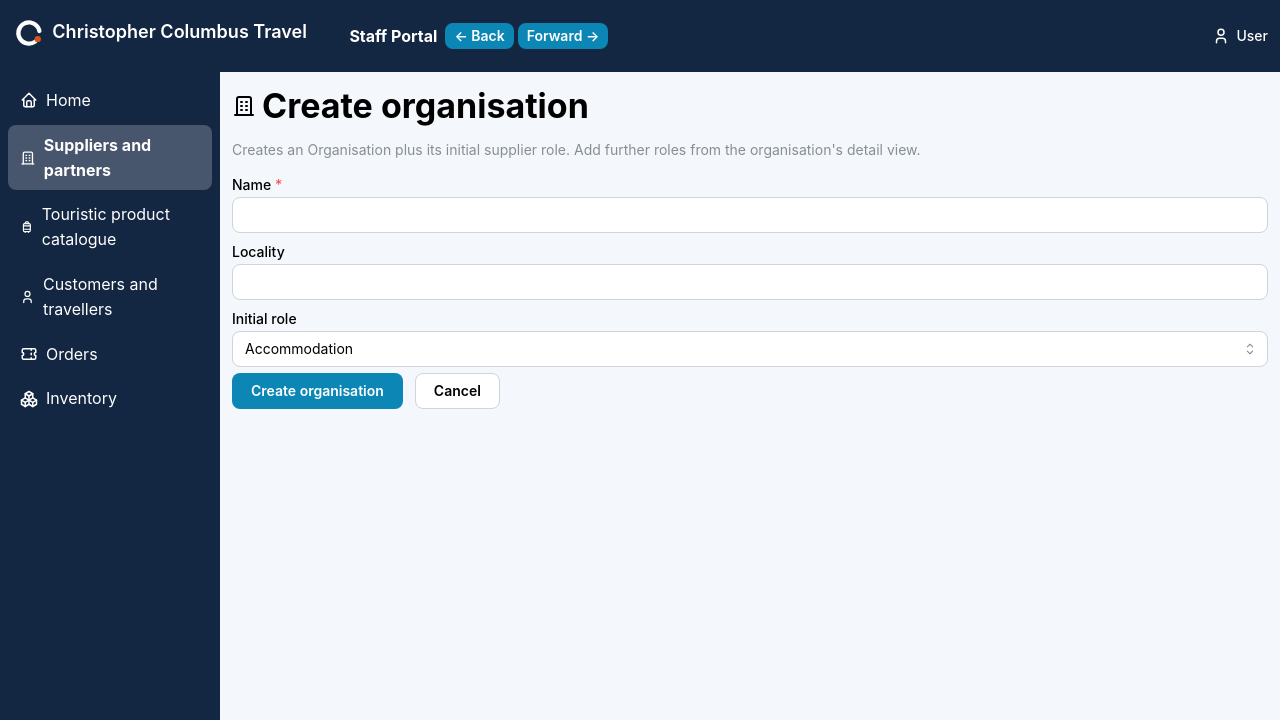
Scenario: OrganisationCreateRoute (VIEW-S-004 create flow, issue #30 phase 2) › shows a retry option when the organisation is created but the initial role fails
Type "Example Garden Hotel" into the field labelled "Name *".
click(750, 215); type("Example Garden Hotel")  # box top-left (232, 197), bottom-right (1268, 233)
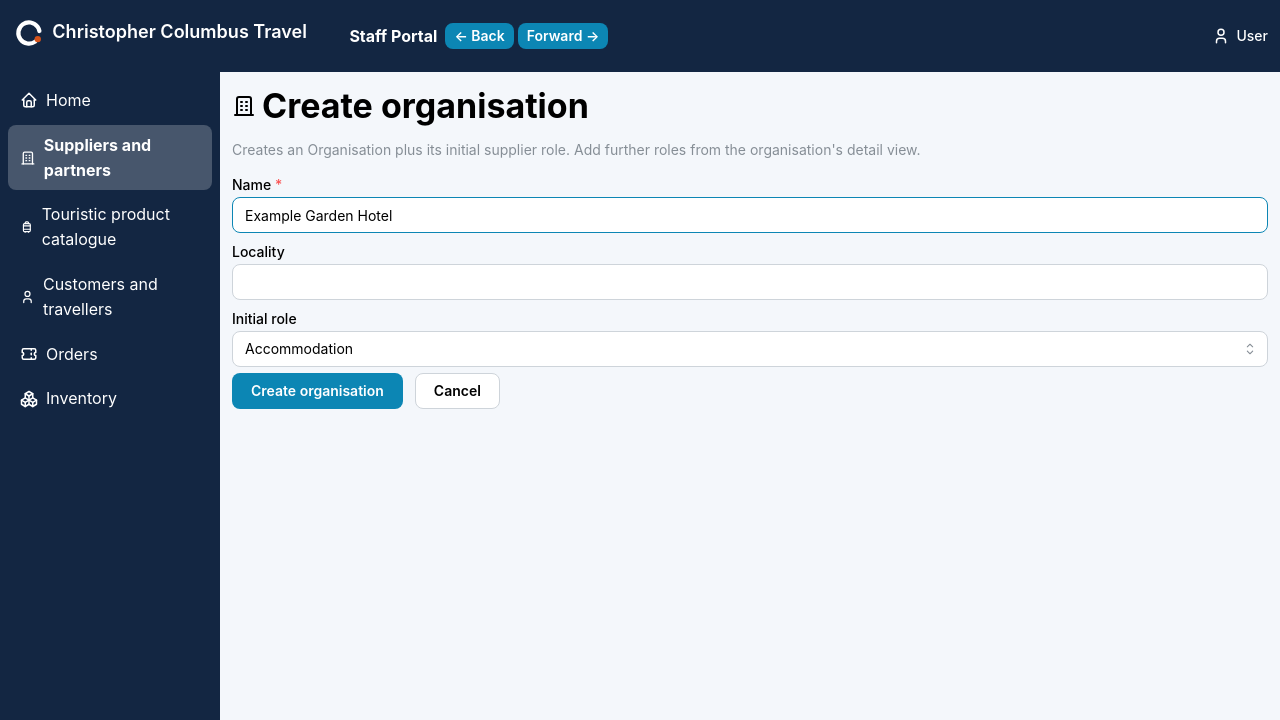
Click the button "Create organisation".
click(317, 391)  # box top-left (232, 373), bottom-right (403, 409)
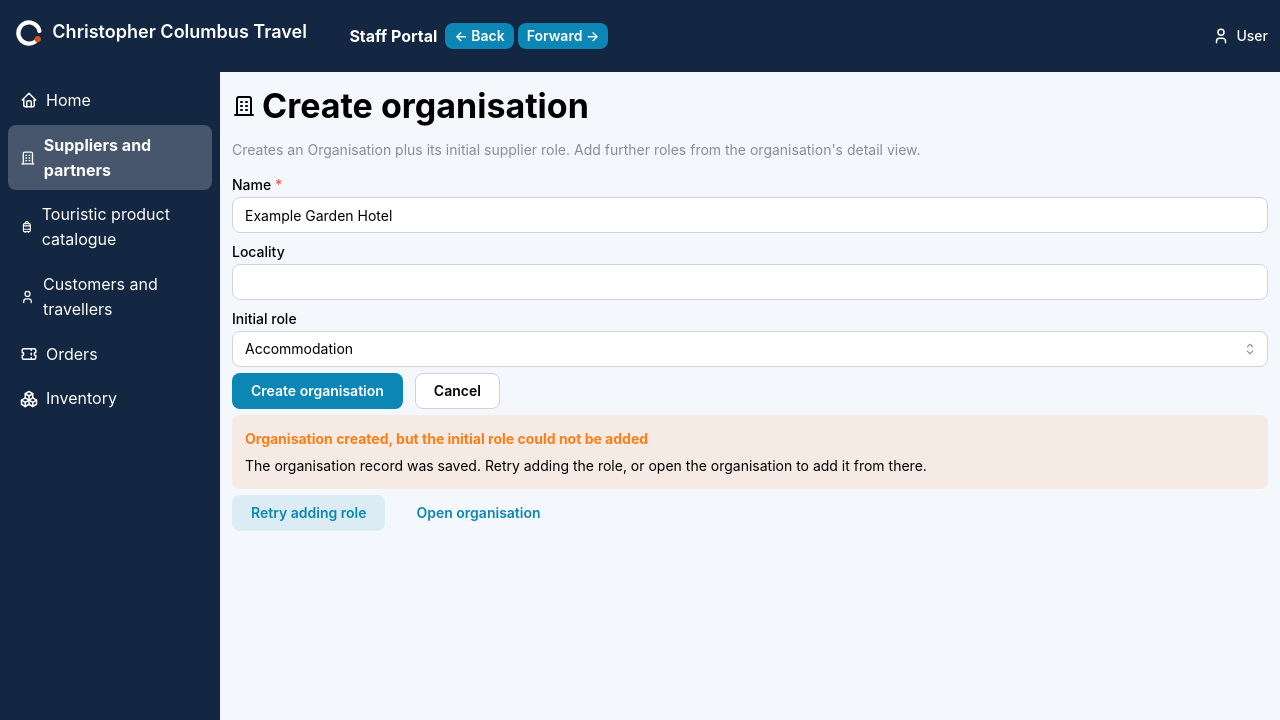
Result: the text "Organisation created, but the initial role could not be added" is shown at top-left (245, 428), bottom-right (648, 450)
Result: the button "Retry adding role" is shown at top-left (232, 495), bottom-right (386, 531)
